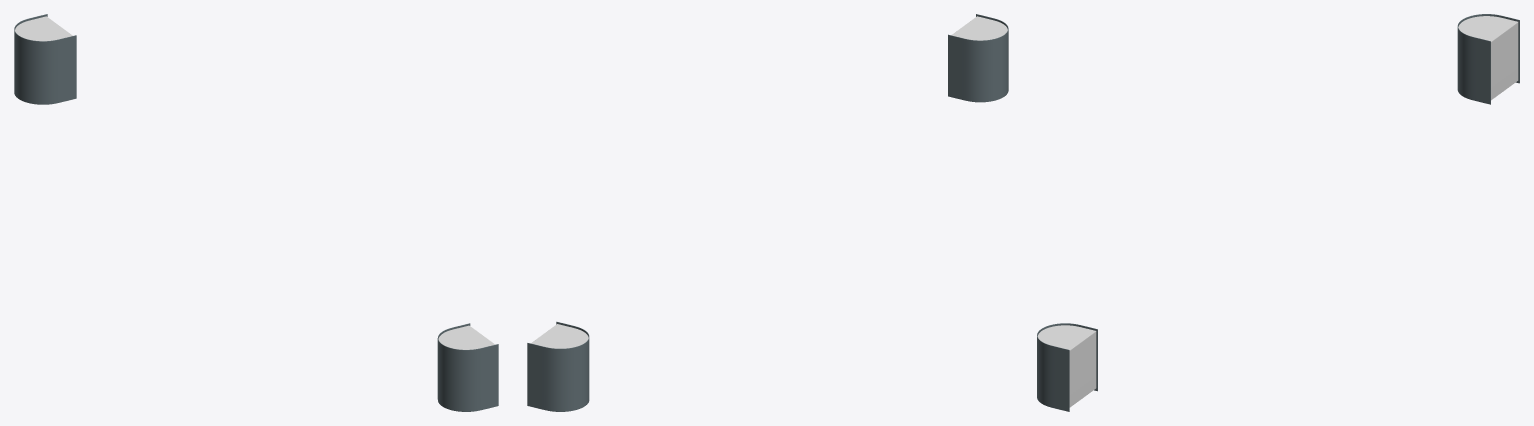
The model's file is public bathroom lightssimple.fbx.
3 renders of one model, left to right at view 1: azimuth 30°, elevation 25°; view 2: azimuth 150°, elevation 25°; view 3: azimuth 330°, elevation 25°, orthographic.
Parts seen in each view (by area): view 1: Wall Lamp .011, Wall Lamp .007, Wall Lamp .008, Wall Lamp .004; view 2: Wall Lamp .011, Wall Lamp .007, Wall Lamp .008, Wall Lamp .004; view 3: Wall Lamp .008, Wall Lamp .004, Wall Lamp .011, Wall Lamp .007.
Part boxes in pixels (left/top/right/bottom): Wall Lamp .011: left=14, top=14, right=76, bottom=104; Wall Lamp .007: left=437, top=323, right=498, bottom=411; Wall Lamp .008: left=15, top=16, right=72, bottom=41; Wall Lamp .004: left=438, top=325, right=494, bottom=349; Wall Lamp .011: left=527, top=321, right=589, bottom=411; Wall Lamp .007: left=948, top=14, right=1008, bottom=102; Wall Lamp .008: left=531, top=324, right=588, bottom=348; Wall Lamp .004: left=951, top=16, right=1007, bottom=40; Wall Lamp .008: left=1458, top=16, right=1518, bottom=100; Wall Lamp .004: left=1037, top=325, right=1096, bottom=407; Wall Lamp .011: left=1457, top=14, right=1519, bottom=104; Wall Lamp .007: left=1037, top=323, right=1097, bottom=411.
Bounding box in the file's own units: 94.3 × 129 × 1672.
